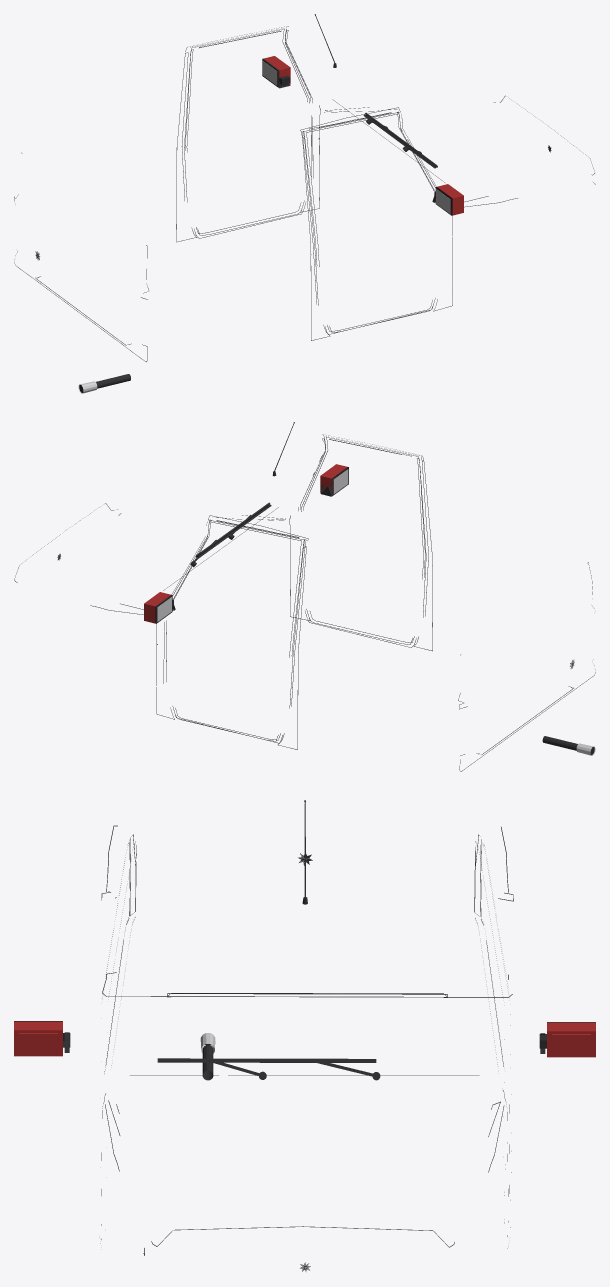
Rendered from jipe-capota_detalhe.glb.
The picture shows the model from 3 angles, top to bottom: view 1: azimuth 30°, elevation 25°; view 2: azimuth 150°, elevation 25°; view 3: azimuth 270°, elevation 25°; orthographic projection. The views are drawn at different scales.
Visible parts, largest first — view 1: det_door_fr, det_door_fl, det_body, det_mirror_right, det_mirror_left; view 2: det_door_fl, det_door_fr, det_body, det_mirror_left, det_mirror_right; view 3: det_body, det_mirror_left, det_mirror_right, det_trunk, det_hood.
Boxes of the visible parts, x1=… form: det_door_fr: x1=300, y1=107, x2=452, y2=340; det_door_fl: x1=176, y1=26, x2=320, y2=242; det_body: x1=78, y1=14, x2=437, y2=393; det_mirror_right: x1=432, y1=184, x2=463, y2=215; det_mirror_left: x1=262, y1=56, x2=290, y2=88; det_door_fl: x1=156, y1=515, x2=308, y2=749; det_door_fr: x1=289, y1=434, x2=432, y2=651; det_body: x1=190, y1=422, x2=595, y2=755; det_mirror_left: x1=144, y1=592, x2=175, y2=623; det_mirror_right: x1=320, y1=464, x2=348, y2=496; det_body: x1=157, y1=800, x2=380, y2=1080; det_mirror_left: x1=539, y1=1022, x2=595, y2=1057; det_mirror_right: x1=14, y1=1021, x2=70, y2=1056; det_trunk: x1=101, y1=825, x2=513, y2=997; det_hood: x1=105, y1=1075, x2=504, y2=1255.
Size of the model in its own units: 3.61 by 1.96 by 2.32.
